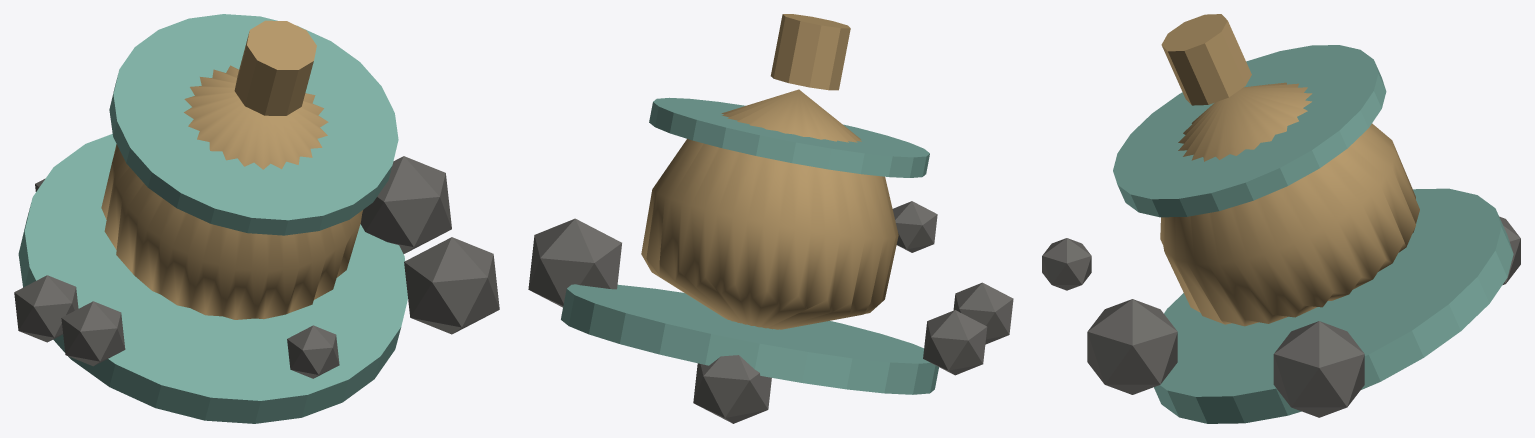
Rendered from bell_fallen.glb.
The picture shows the model from 3 angles, left to right: view 1: azimuth 30°, elevation 25°; view 2: azimuth 150°, elevation 25°; view 3: azimuth 270°, elevation 25°; orthographic projection. The views are drawn at different scales.
Visible parts, largest first — view 1: bell_fallen; view 2: bell_fallen; view 3: bell_fallen.
Boxes of the visible parts, bbox=[...] form: bell_fallen: bbox=[14, 14, 499, 423]; bell_fallen: bbox=[528, 14, 1013, 423]; bell_fallen: bbox=[1042, 14, 1520, 423].
Bounding box in the file's own units: 1.41 × 1.12 × 1.34.
